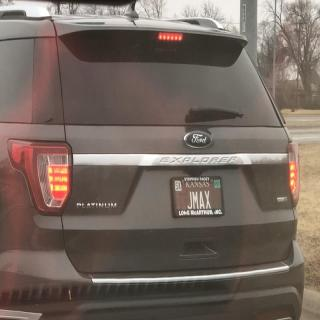license: (172, 177, 226, 218)
